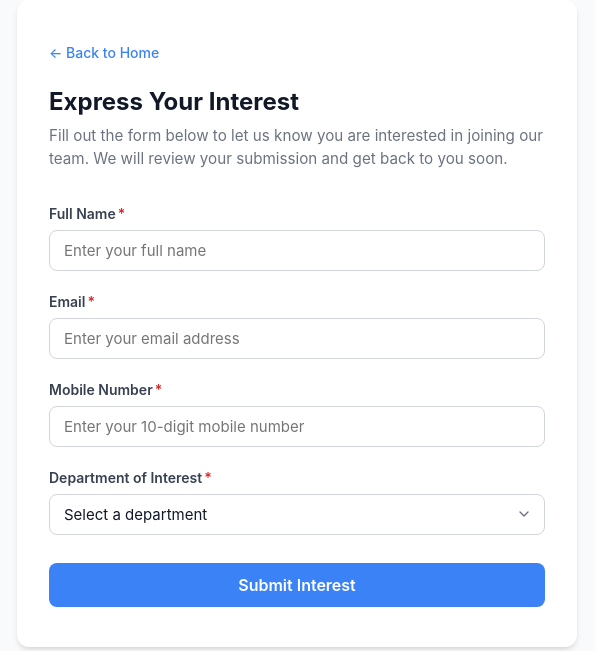
InterestForm › field validation error display › shows error for invalid name with special characters
Type "John@Doe" into the field labelled "Full Name*" at (297, 250), box top-left (49, 230), bottom-right (545, 271)
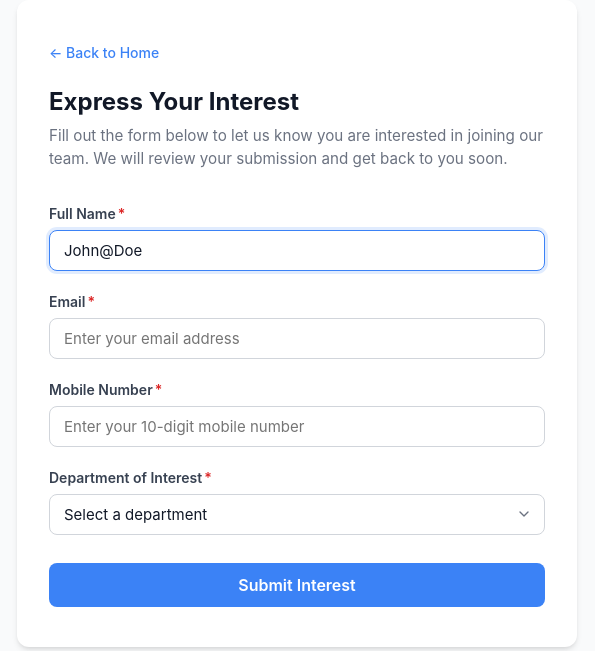
Click the button "Submit Interest" at (297, 585), box top-left (49, 563), bottom-right (545, 607)
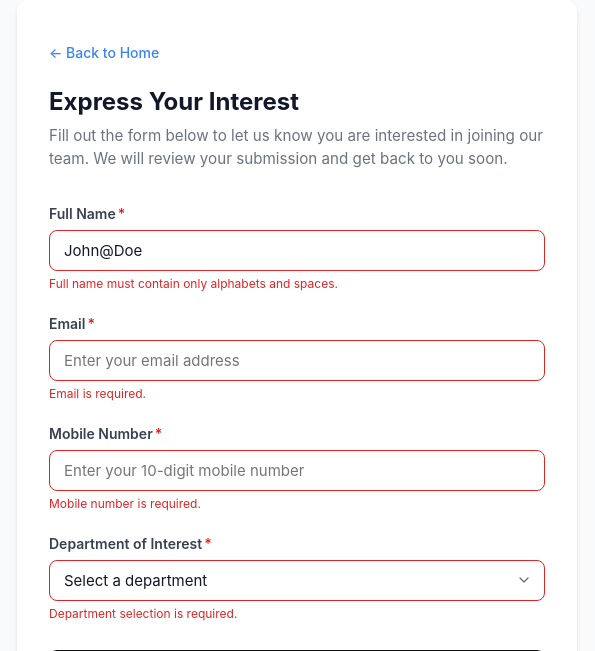
expect the text "Full name must contain only alphabets and spaces." is shown: met, box top-left (49, 276), bottom-right (338, 291)
